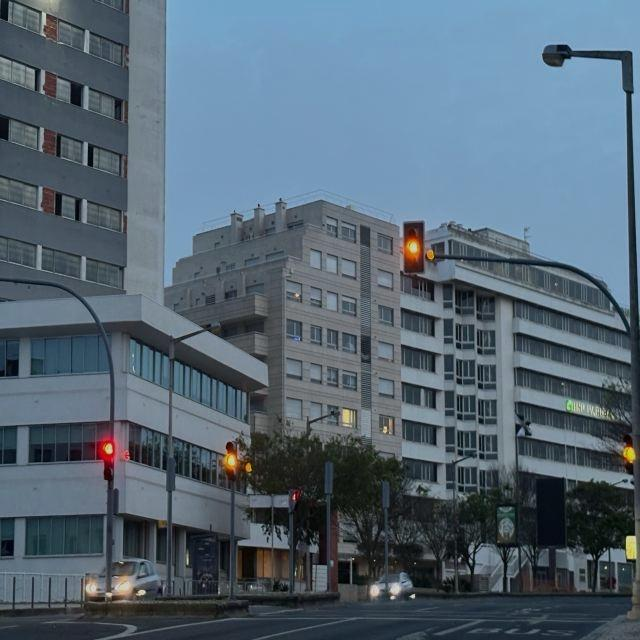Red: (100, 436, 114, 481)
Yellow: (402, 220, 424, 278), (620, 428, 636, 481), (222, 438, 236, 486)
